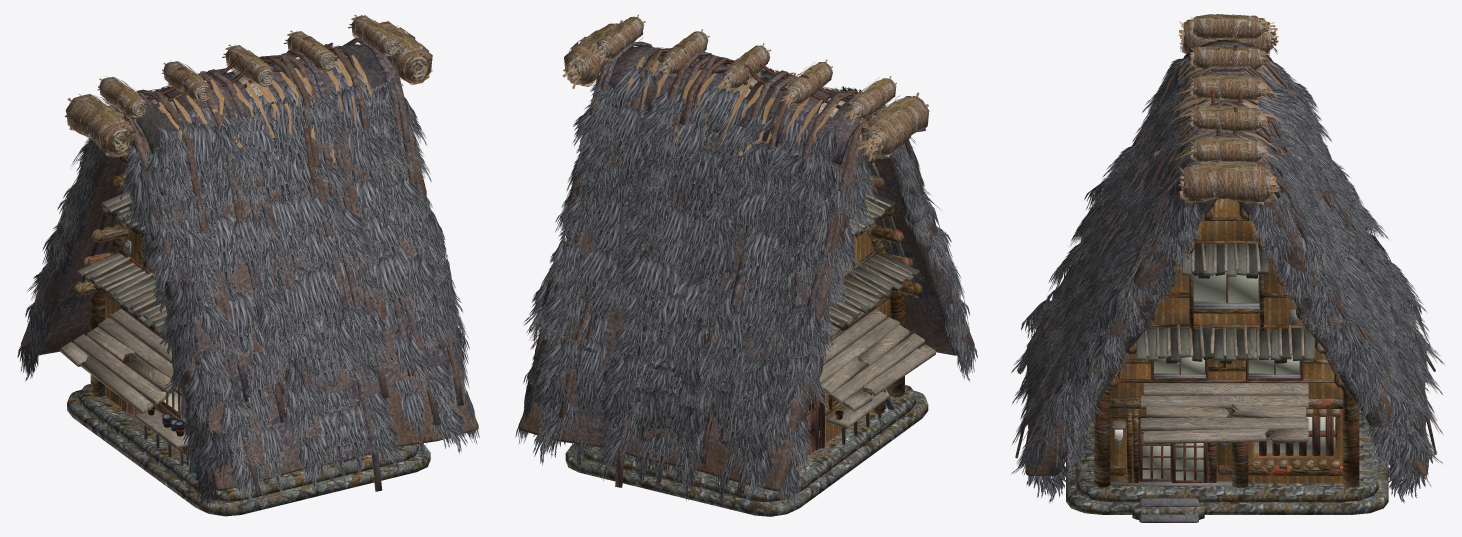
Rendered from shirakawago-1.glb.
3 renders of one model, left to right at view 1: azimuth 30°, elevation 25°; view 2: azimuth 150°, elevation 25°; view 3: azimuth 270°, elevation 25°, orthographic.
Visible parts, largest first — view 1: Shirakawago_House_1; view 2: Shirakawago_House_1; view 3: Shirakawago_House_1.
Boxes of the visible parts, box(x1,y1,x2,y2) form: Shirakawago_House_1: box(17, 15, 479, 516); Shirakawago_House_1: box(515, 14, 977, 516); Shirakawago_House_1: box(1010, 14, 1445, 522).
Size of the model in its own units: 10.76 by 11.65 by 12.18.
Materials: 4 (4 with a texture image).
